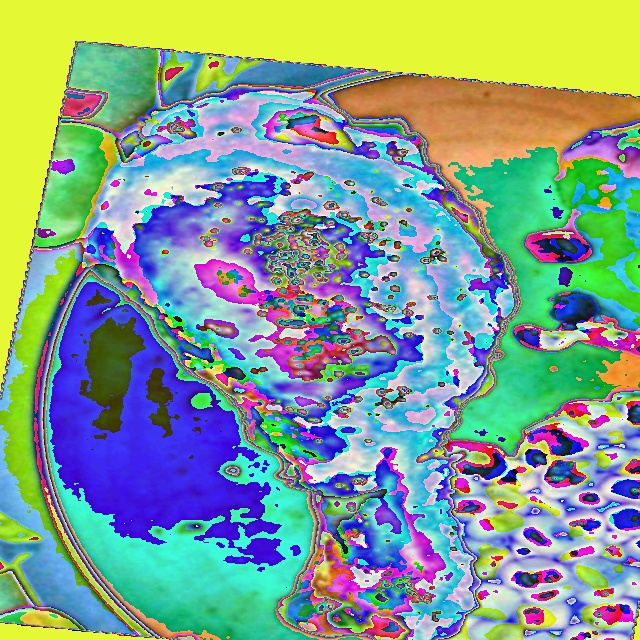background: (82, 90, 639, 639), (127, 130, 639, 353)
